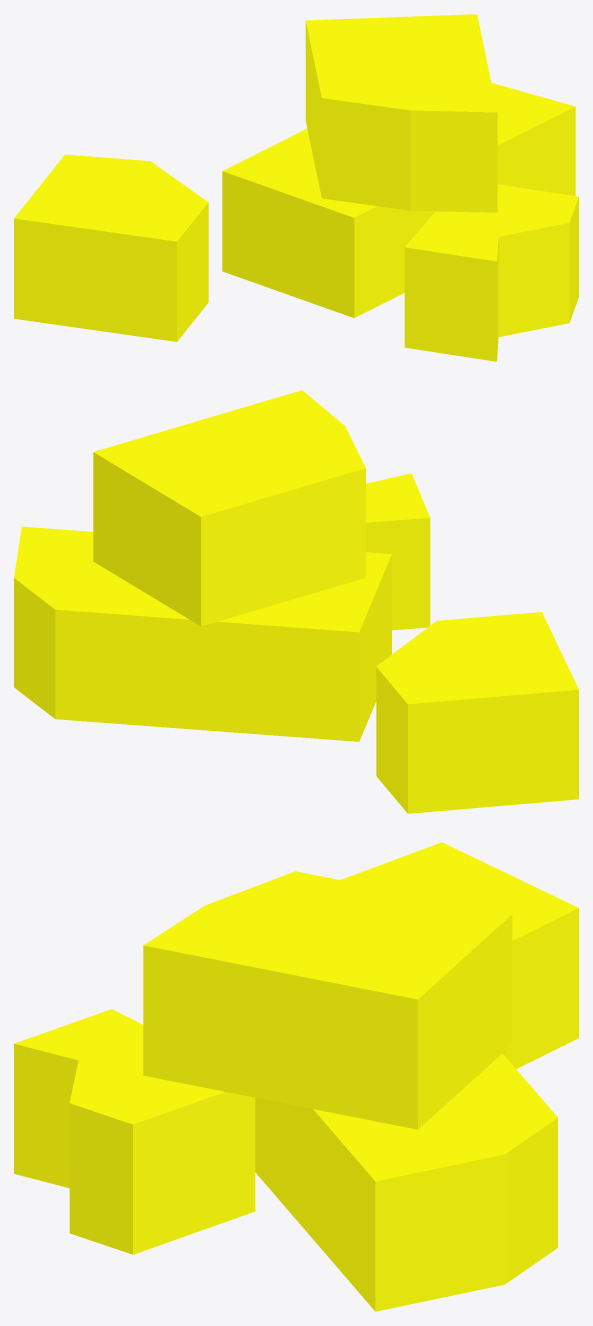
Rendered from bricks_stacked_mx_1.glb.
3 views of the same model, one above another, from view 1: azimuth 30°, elevation 25°; view 2: azimuth 150°, elevation 25°; view 3: azimuth 270°, elevation 25° (orthographic). The views are drawn at different scales.
Parts seen in each view (by area): view 1: bricks_stacked_mx_1; view 2: bricks_stacked_mx_1; view 3: bricks_stacked_mx_1.
Part boxes in pixels (x1,y1,x2,y2): bricks_stacked_mx_1: [14, 14, 578, 361]; bricks_stacked_mx_1: [14, 390, 578, 813]; bricks_stacked_mx_1: [14, 842, 578, 1311].
Size of the model in its own units: 0.5033 by 0.18 by 0.3541.
Materials: 1 (1 with a texture image).
